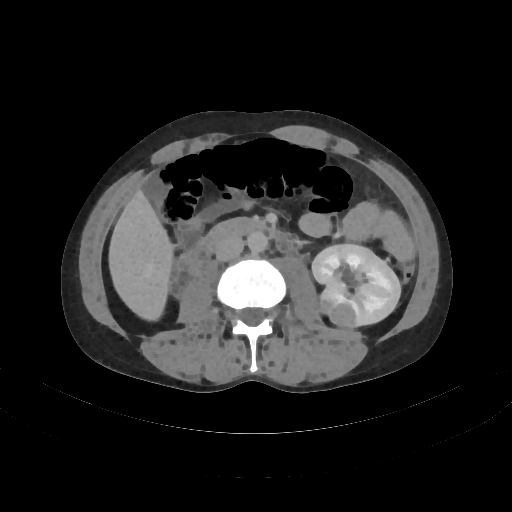Lesion: (325, 300, 358, 328)
